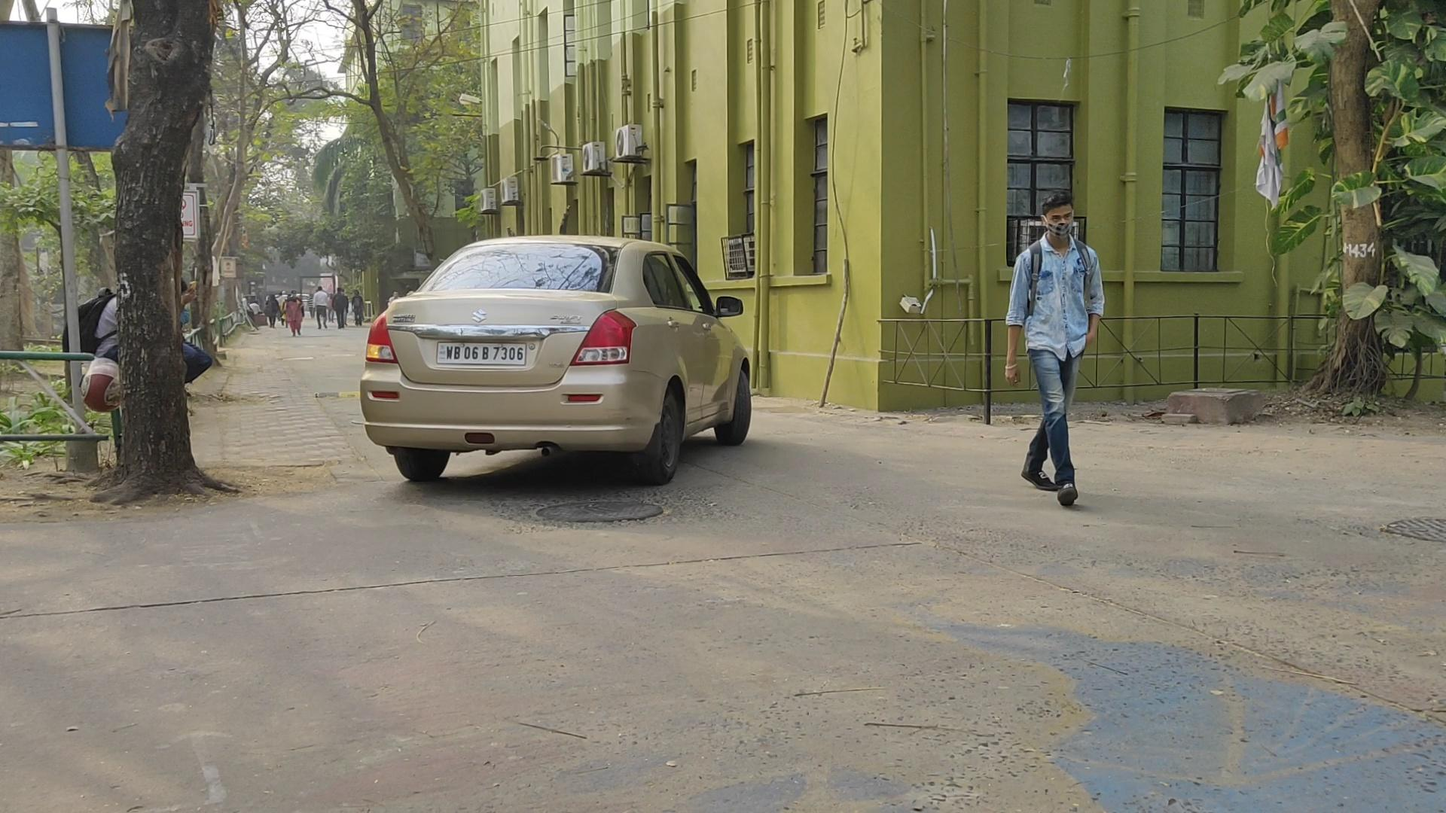car: (359, 236, 751, 486)
